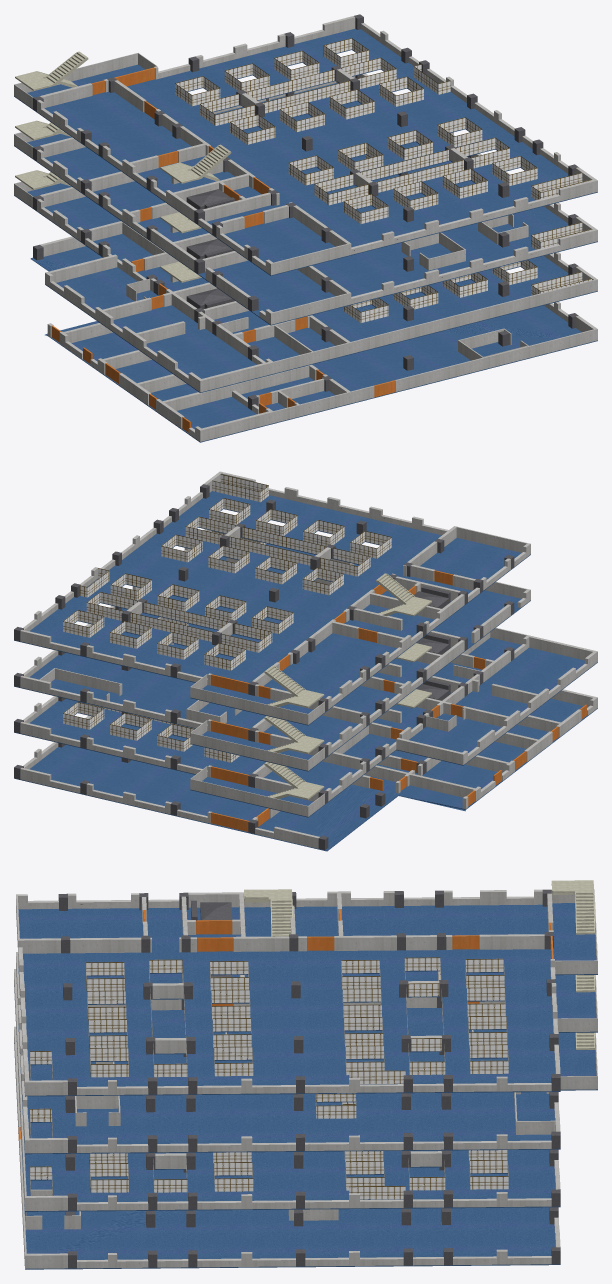
The model's file is tileset.gltf.
3 renders of one model, top to bottom at view 1: azimuth 30°, elevation 25°; view 2: azimuth 150°, elevation 25°; view 3: azimuth 270°, elevation 25°, orthographic. The views are drawn at different scales.
Parts seen in each view (by area): view 1: 200车间-4F-4F, 200车间-4F-2F, 200车间-4F-3F, 200车间-4F-1F; view 2: 200车间-4F-4F, 200车间-4F-2F, 200车间-4F-3F, 200车间-4F-1F; view 3: 200车间-4F-4F, 200车间-4F-3F, 200车间-4F-1F, 200车间-4F-2F.
Part boxes in pixels (left/top/right/bottom): 200车间-4F-4F: left=14, top=14, right=597, bottom=275; 200车间-4F-2F: left=14, top=170, right=597, bottom=392; 200车间-4F-3F: left=14, top=73, right=597, bottom=325; 200车间-4F-1F: left=30, top=236, right=597, bottom=442; 200车间-4F-4F: left=14, top=471, right=530, bottom=725; 200车间-4F-2F: left=14, top=627, right=597, bottom=817; 200车间-4F-3F: left=14, top=529, right=530, bottom=771; 200车间-4F-1F: left=14, top=689, right=597, bottom=851; 200车间-4F-4F: left=16, top=880, right=597, bottom=1096; 200车间-4F-3F: left=16, top=952, right=597, bottom=1154; 200车间-4F-1F: left=14, top=1026, right=560, bottom=1269; 200车间-4F-2F: left=14, top=969, right=597, bottom=1211.
Bounding box in the file's own units: 30.25 × 13.18 × 32.1.
Materials: 6 (6 with a texture image).
